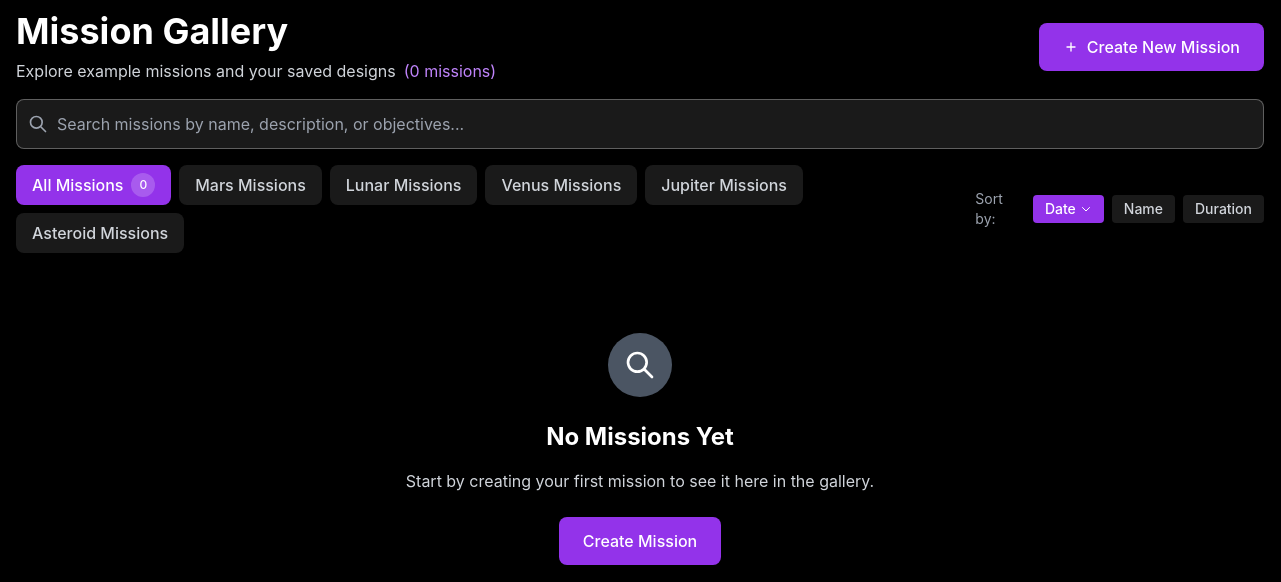
GalleryPage › shows empty search results
Note: Simulate having a search term
Step 1. Type "nonexistent" into the field with placeholder "Search missions by name, description, or objectives..." → (640, 124), box [16,99,1264,149]
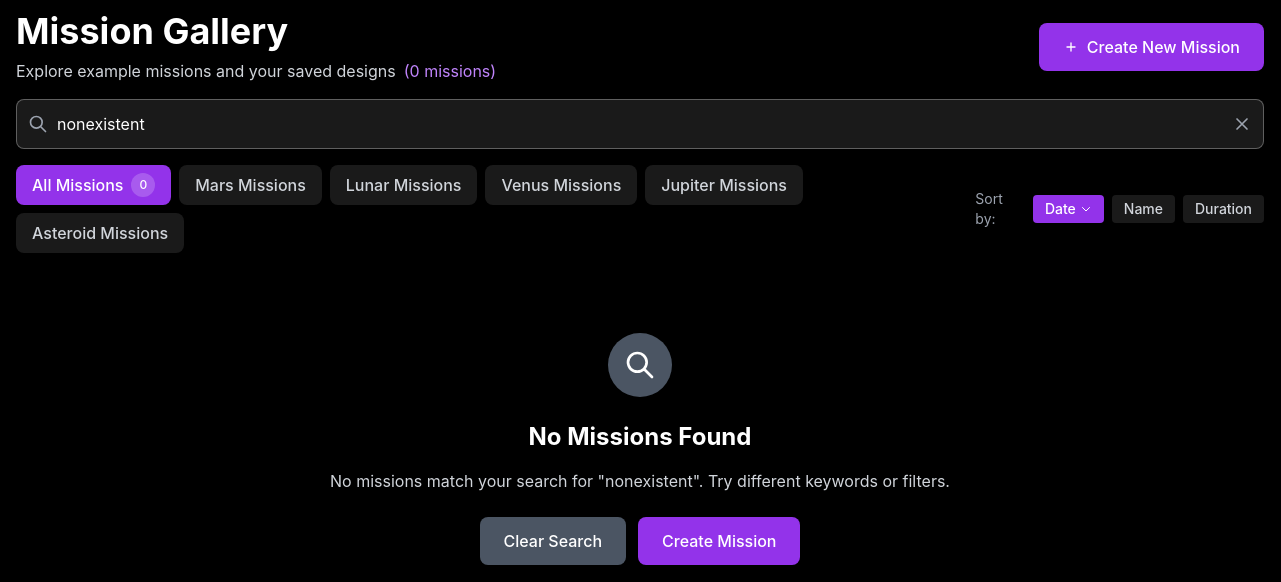
expect the heading "No Missions Found" is shown: met, box [529,422,752,451]
